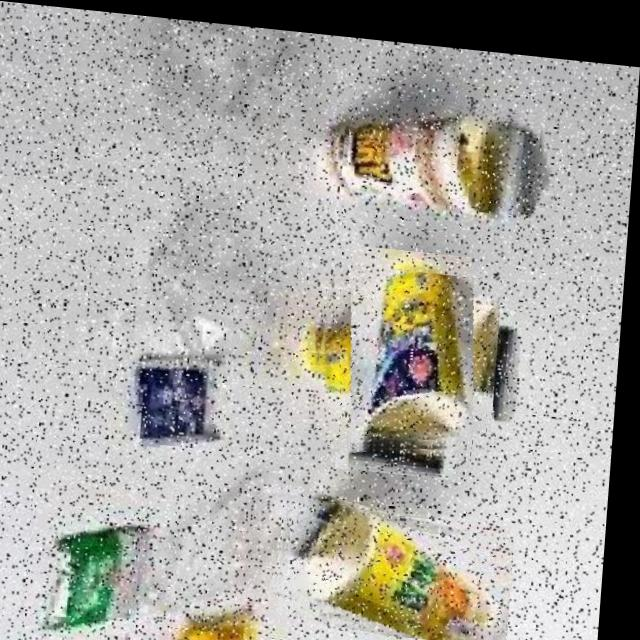Miscellaneous: (311, 253, 506, 452), (278, 486, 524, 634), (331, 80, 544, 229)
